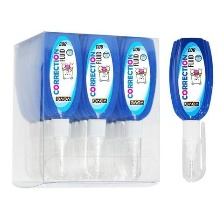book: (8, 28, 162, 189)
correction_fluid: (35, 31, 84, 182), (167, 36, 214, 184), (77, 32, 122, 181), (113, 35, 158, 181)
